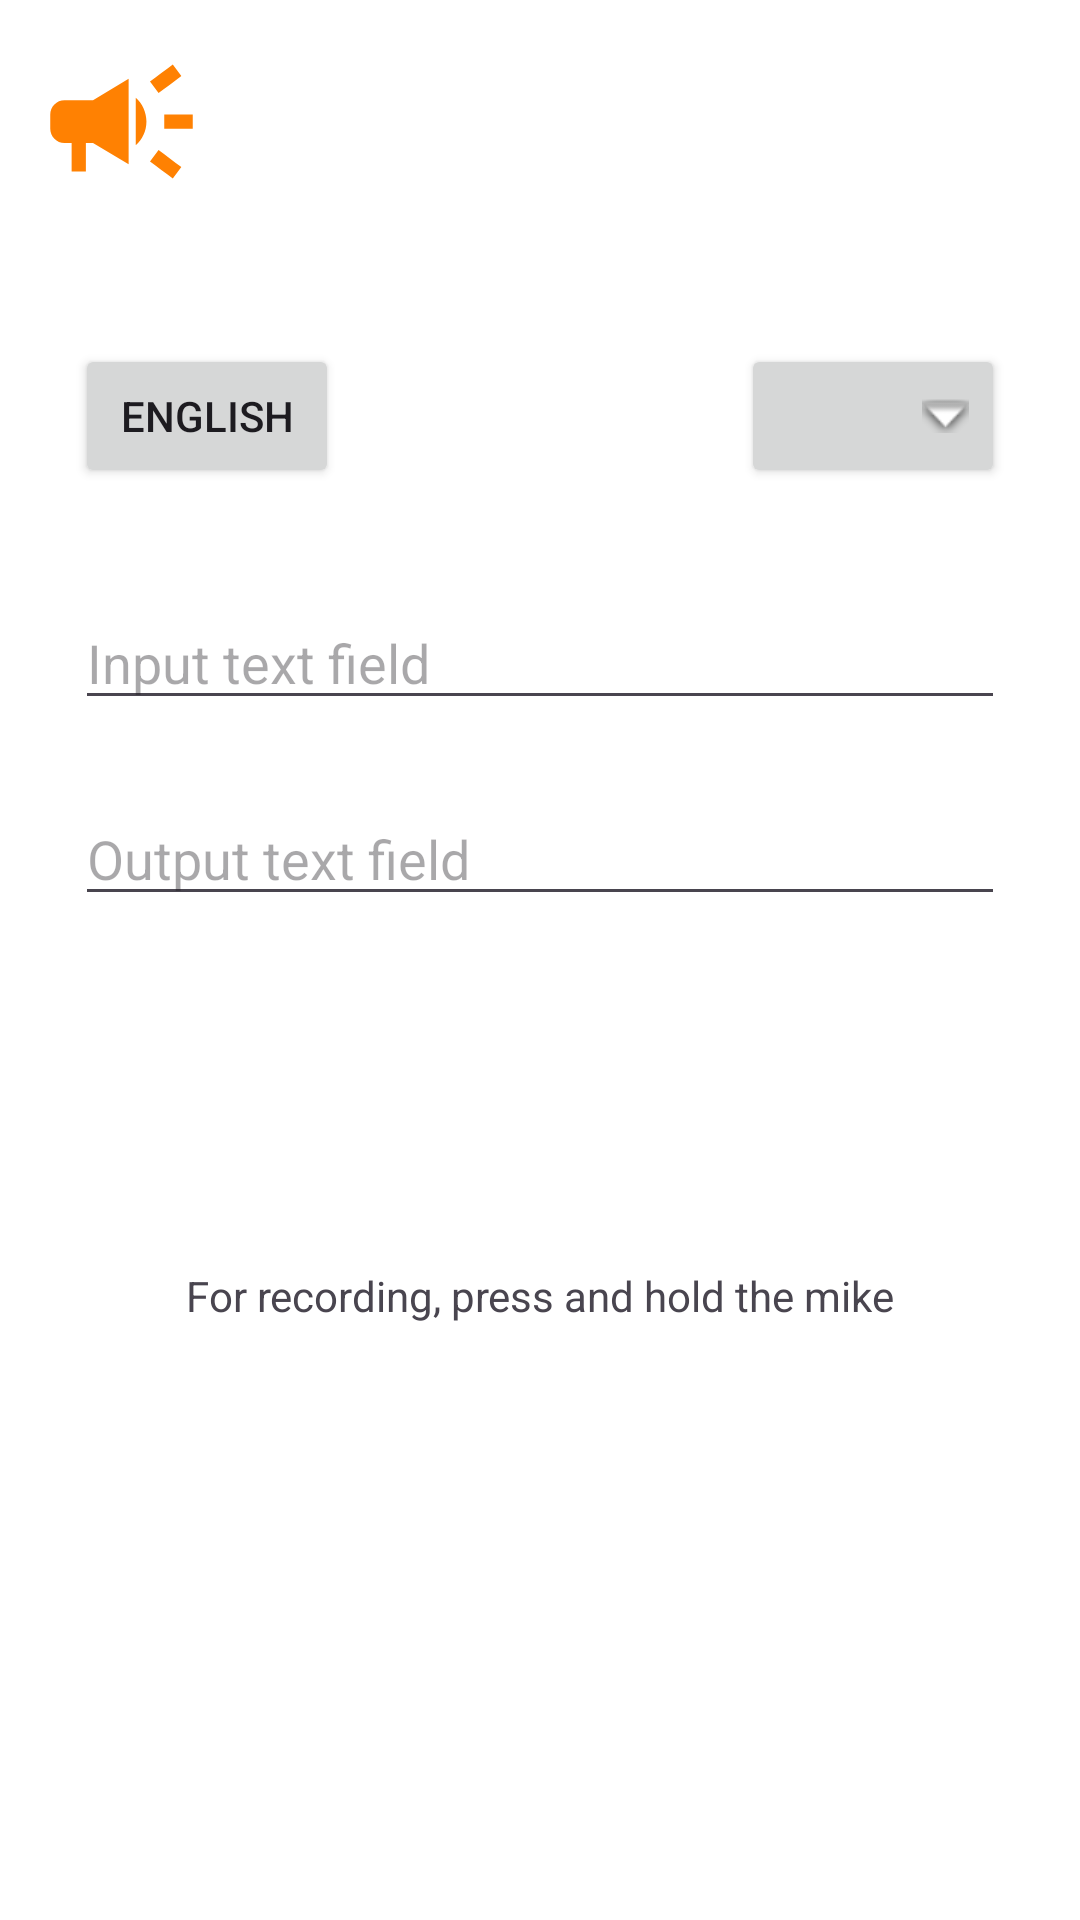

Point at icon controls on the screen. Image size 1080 x 1920, points as (x,y).
speak up: (121,121)
